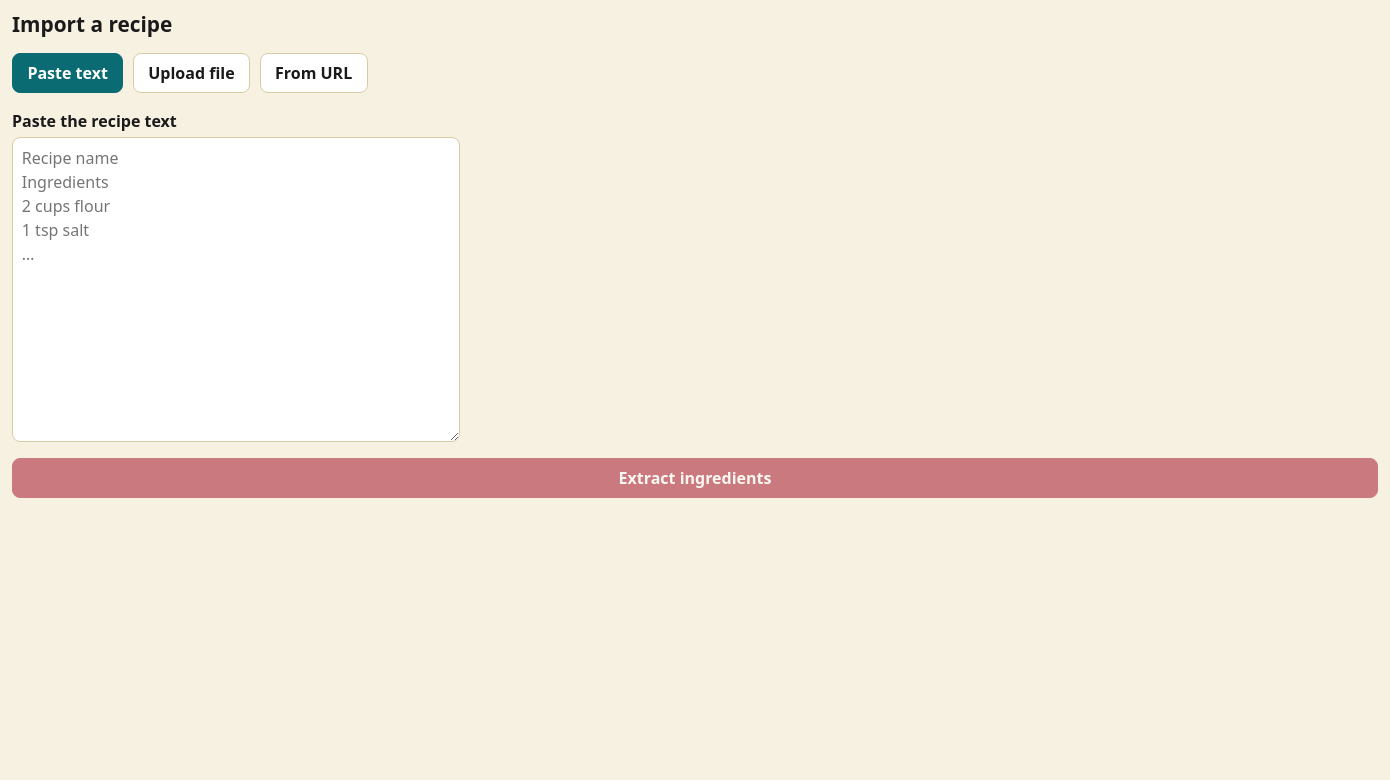
Test: ImportRecipe › surfaces an import error and does not navigate
In the text box labelled "Paste the recipe text": point(236, 290) [12,137,460,442], type "junk"
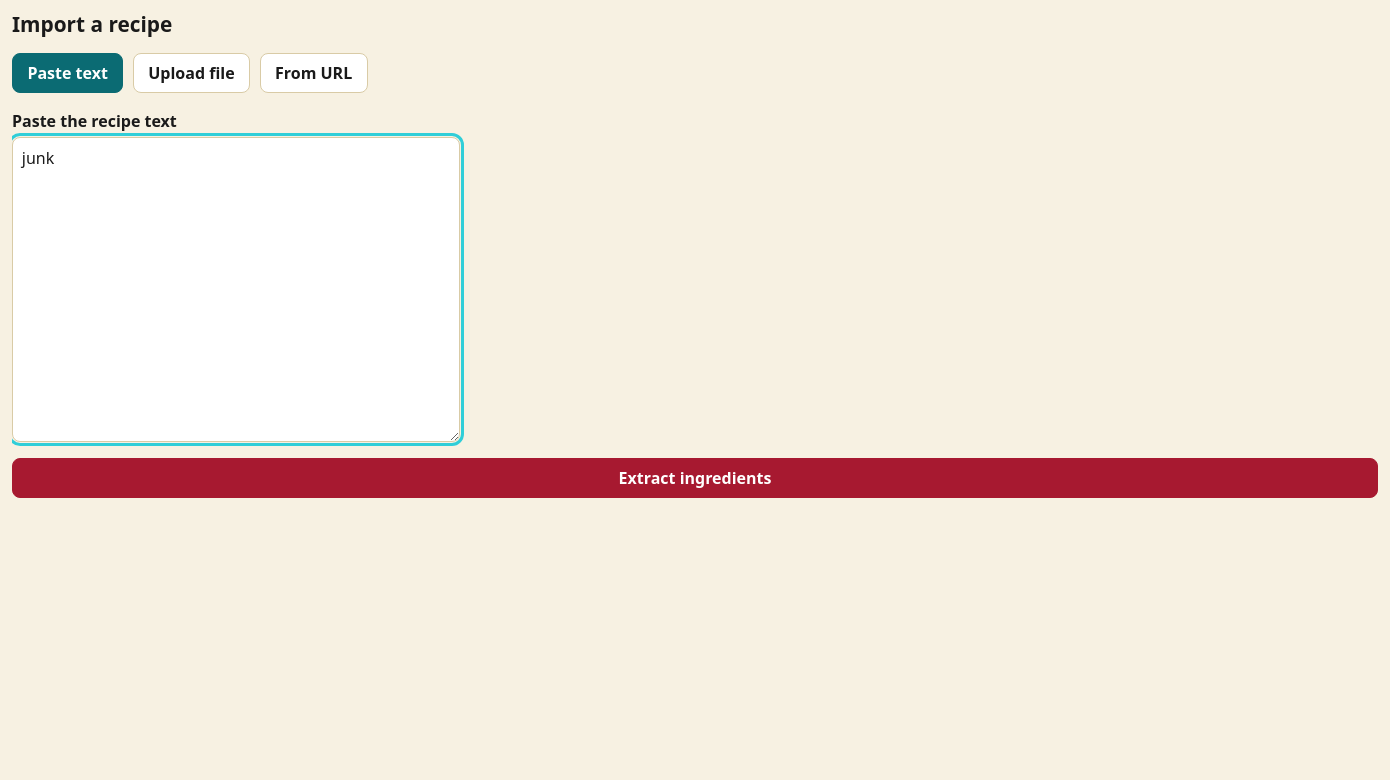
Click the button "Extract ingredients": point(695, 478) [12,458,1378,498]
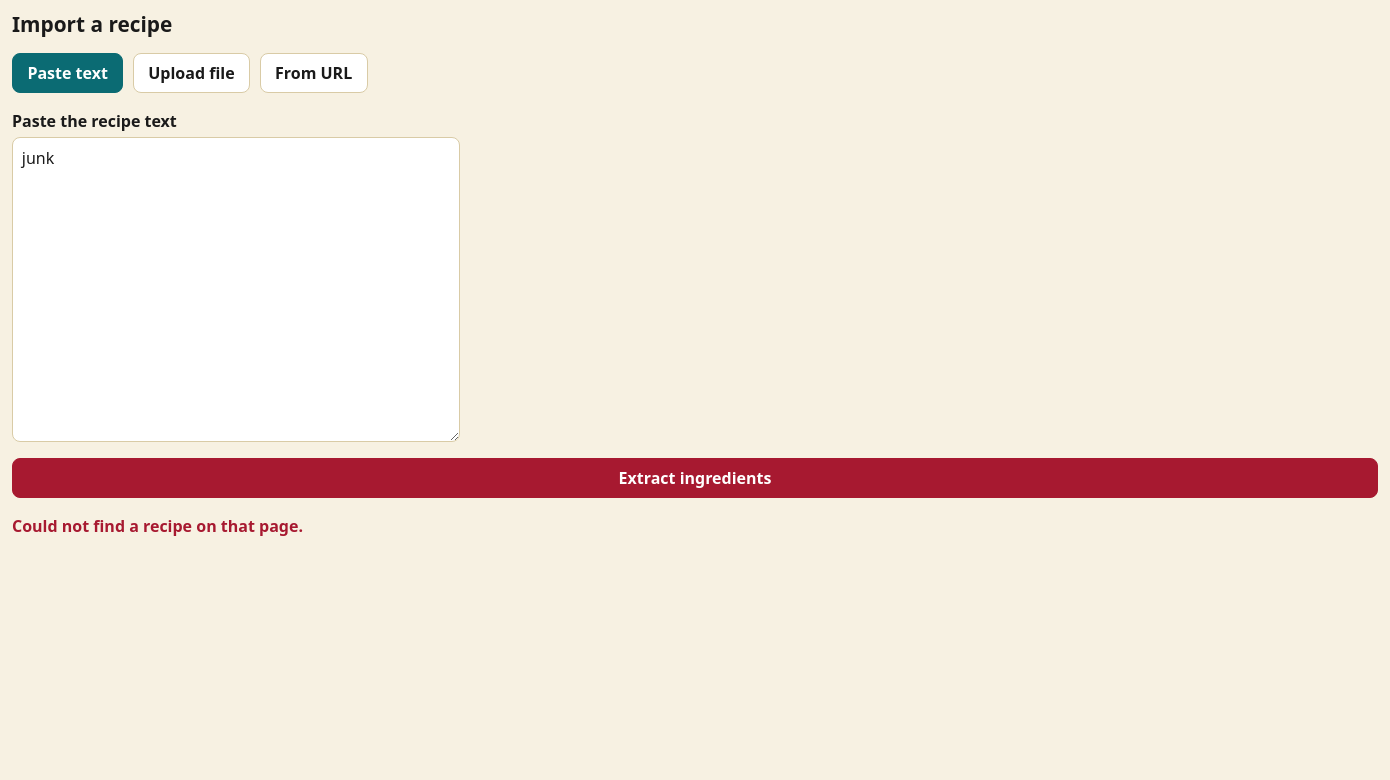
Expected: the message shows "Could not find a recipe", [12,515,303,537]
